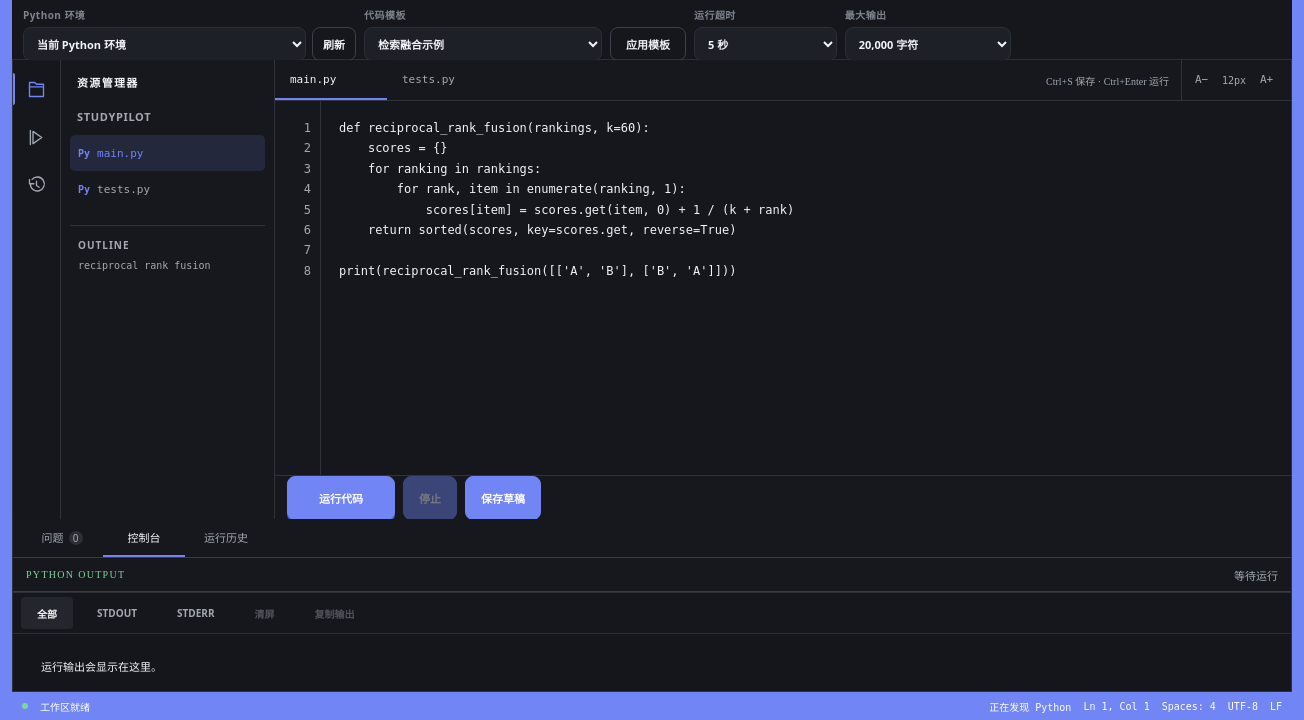
Test: can reconnect run polling after a temporary detail request failure
Click the button "运行代码": point(341, 498) 287,476 -> 395,520
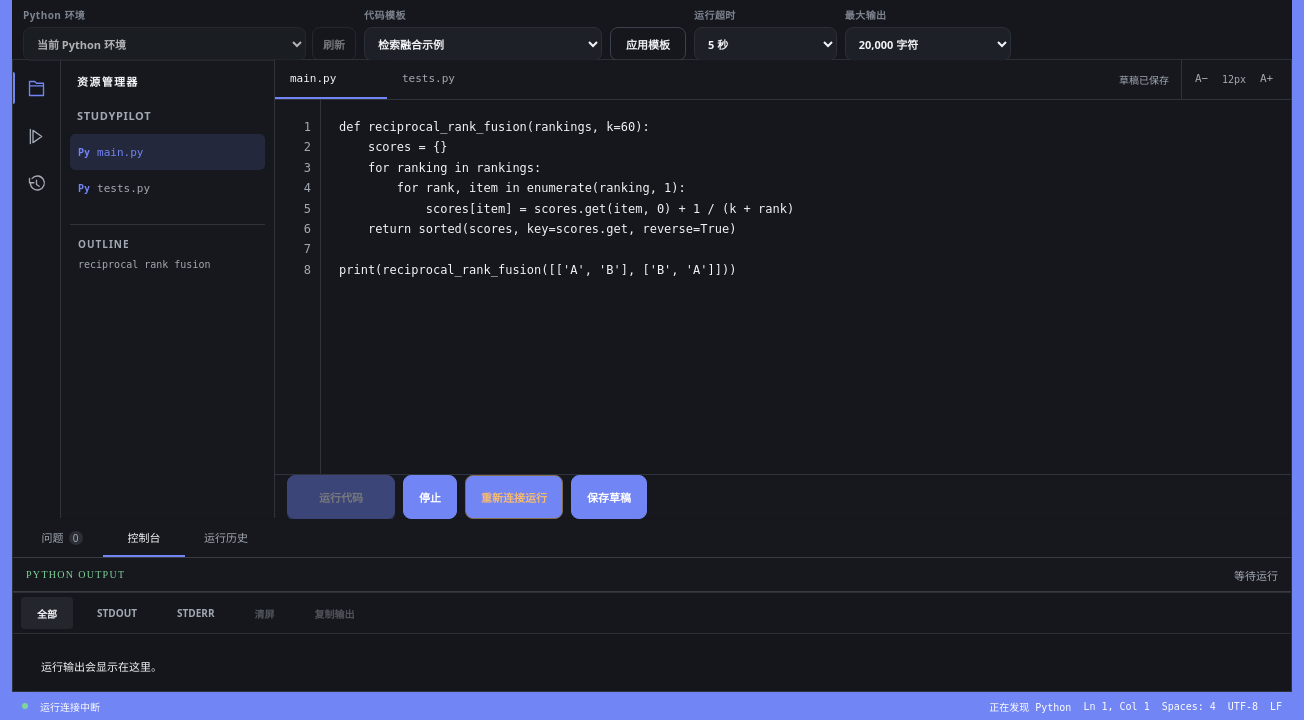
Check: the button "重新连接运行" is shown
Click the button "重新连接运行": point(514, 497) 465,475 -> 563,519
(page scrolled)
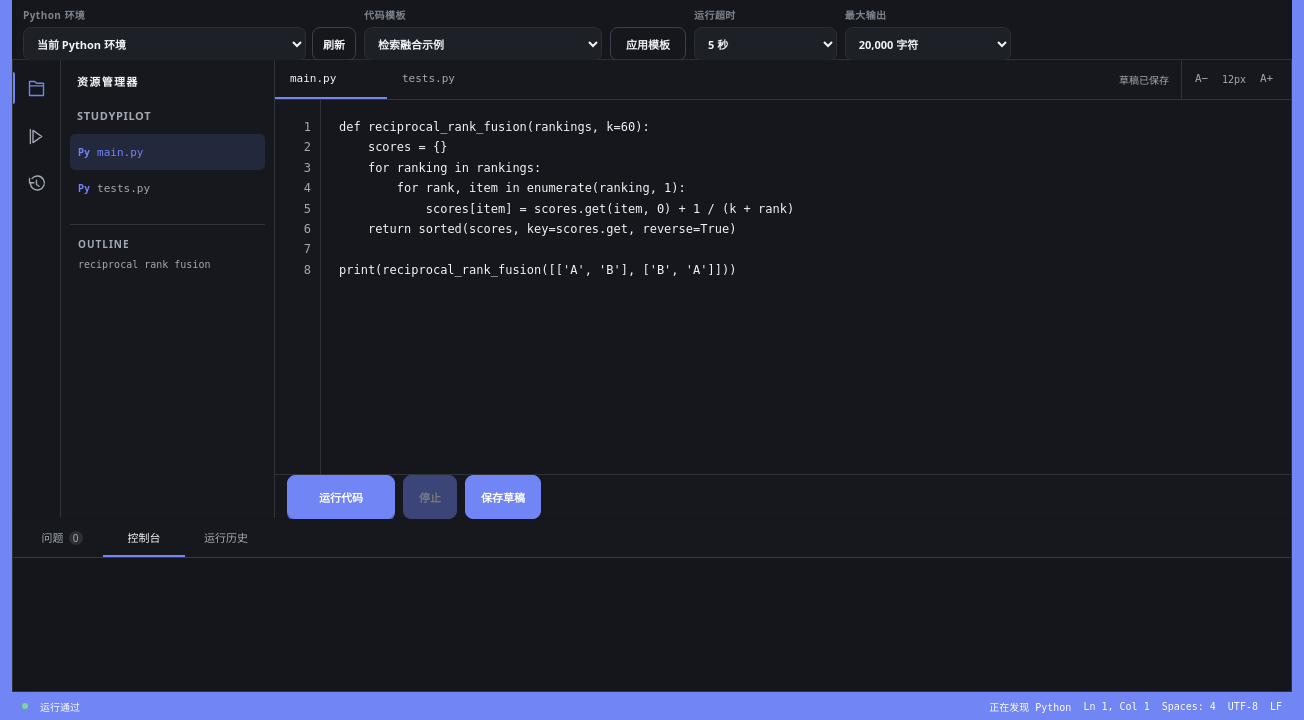
Check: the button "重新连接运行" is gone
